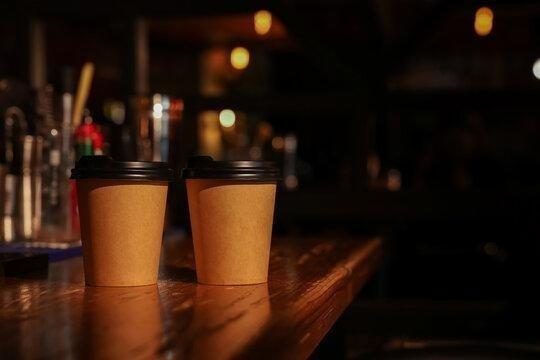cup-disposable: (69, 152, 173, 290), (181, 153, 282, 289)
